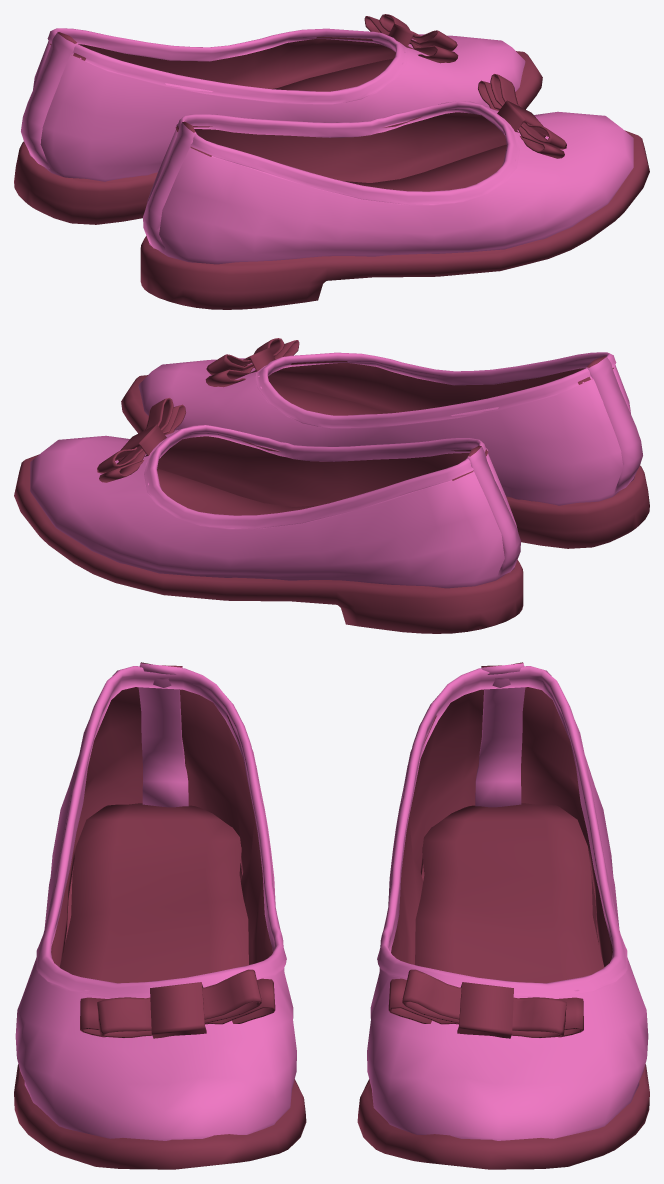
The model's file is zapatillas.fbx.
The picture shows the model from 3 angles, top to bottom: view 1: azimuth 30°, elevation 25°; view 2: azimuth 150°, elevation 25°; view 3: azimuth 270°, elevation 25°; orthographic projection. The views are drawn at different scales.
Visible parts, largest first — view 1: Object_2, Object_2.001; view 2: Object_2.001, Object_2; view 3: Object_2, Object_2.001.
Part boxes in pixels (x1,y1,x2,y2): Object_2: (140, 74, 649, 309); Object_2.001: (14, 14, 542, 224); Object_2.001: (14, 398, 523, 633); Object_2: (121, 338, 649, 548); Object_2: (14, 662, 306, 1169); Object_2.001: (357, 662, 649, 1169).
Size of the model in its own units: 113 by 36.98 by 88.6.
